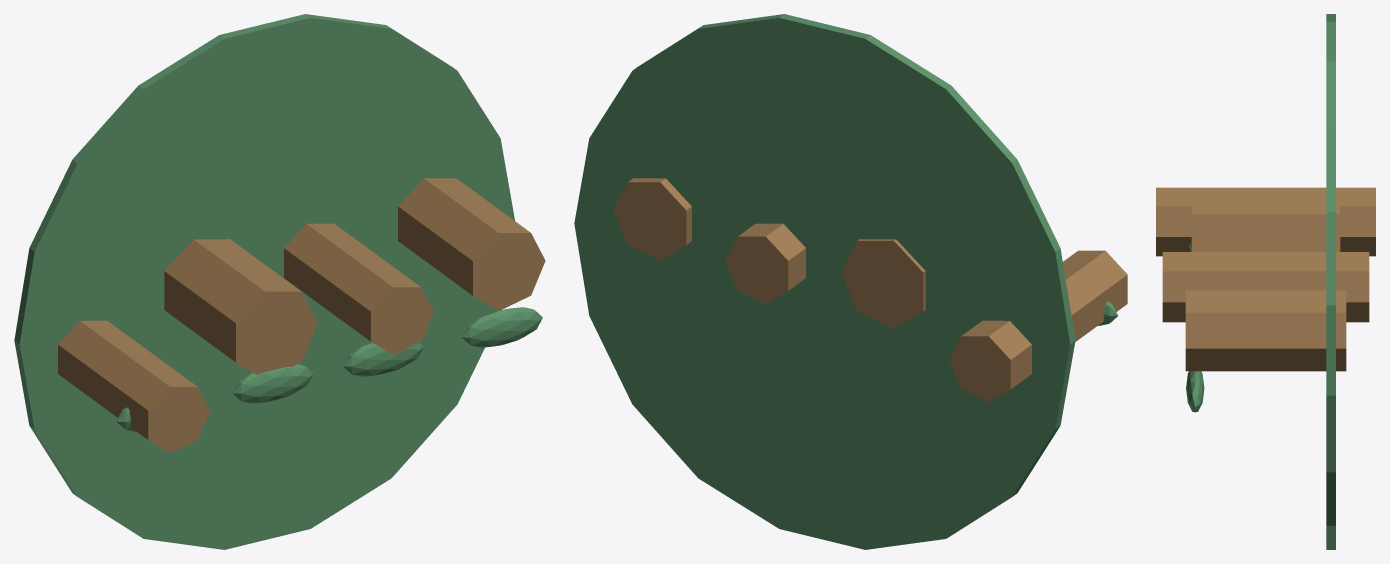
The model's file is 02_local_prop_cluster.glb.
3 views of the same model, side by side, from view 1: azimuth 30°, elevation 25°; view 2: azimuth 150°, elevation 25°; view 3: azimuth 270°, elevation 25° (orthographic). The views are drawn at different scales.
Visible parts, largest first — view 1: scatter_base, root_stump_1, root_stump_3, root_stump_2, root_stump_0, moss_3, moss_1, moss_2; view 2: scatter_base, root_stump_0, root_stump_1, root_stump_3, root_stump_2; view 3: root_stump_3, root_stump_2, root_stump_1, scatter_base, root_stump_0, moss_3.
Boxes of the visible parts, <box> form: scatter_base: <box>14,14,514,549</box>; root_stump_1: <box>164,239,317,375</box>; root_stump_3: <box>398,178,545,310</box>; root_stump_2: <box>284,223,433,354</box>; root_stump_0: <box>58,320,209,452</box>; moss_3: <box>461,307,542,347</box>; moss_1: <box>232,364,313,403</box>; moss_2: <box>342,342,423,376</box>; scatter_base: <box>574,14,1075,549</box>; root_stump_0: <box>949,250,1127,402</box>; root_stump_1: <box>841,239,925,328</box>; root_stump_3: <box>613,178,691,260</box>; root_stump_2: <box>725,223,805,303</box>; root_stump_3: <box>1185,290,1346,371</box>; root_stump_2: <box>1162,252,1369,322</box>; root_stump_1: <box>1191,189,1340,251</box>; scatter_base: <box>1326,14,1335,549</box>; root_stump_0: <box>1156,187,1375,256</box>; moss_3: <box>1186,371,1204,412</box>.
Bounding box in the file's own units: 1.9 × 1.87 × 0.7757.
